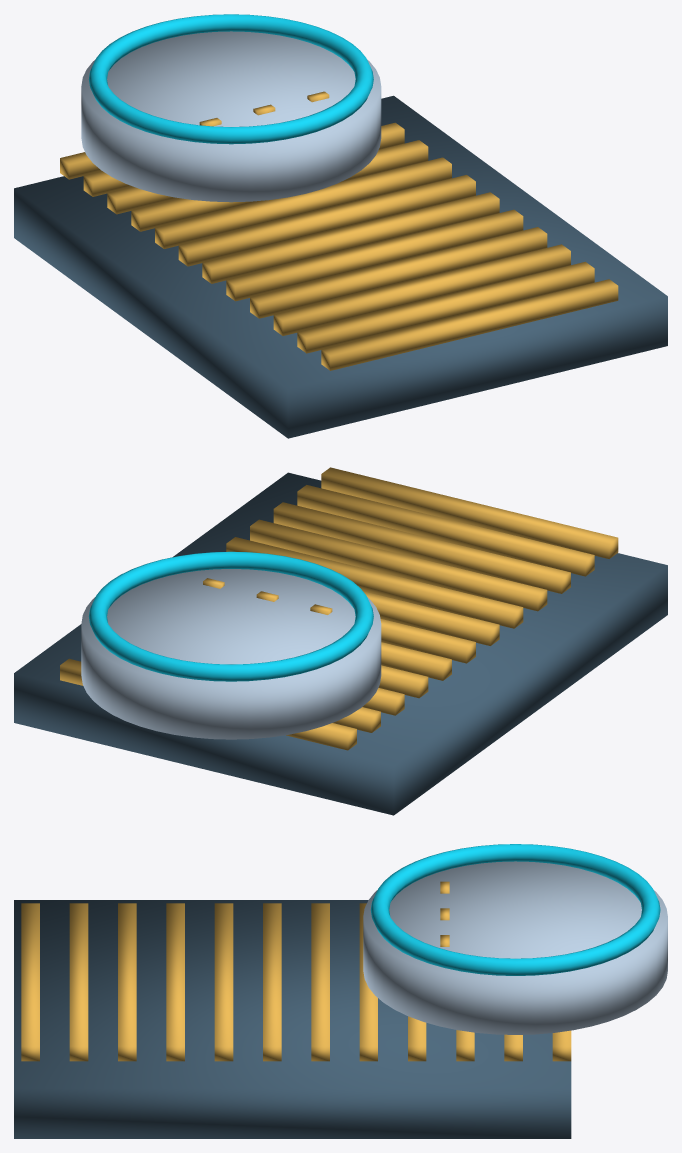
Rendered from 24_L93_CTStageServoDrive.fbx.
3 views of the same model, one above another, from view 1: azimuth 30°, elevation 25°; view 2: azimuth 150°, elevation 25°; view 3: azimuth 270°, elevation 25° (orthographic).
Visible parts, largest first — view 1: L92_CTStageServoDrive_Part_0001, L92_CTStageServoDrive_Part_0000, L92_CTStageServoDrive_Part_0002, L92_CTStageServoDrive_Part_0003; view 2: L92_CTStageServoDrive_Part_0000, L92_CTStageServoDrive_Part_0001, L92_CTStageServoDrive_Part_0002, L92_CTStageServoDrive_Part_0003; view 3: L92_CTStageServoDrive_Part_0000, L92_CTStageServoDrive_Part_0002, L92_CTStageServoDrive_Part_0001, L92_CTStageServoDrive_Part_0003.
Part boxes in pixels (box(x1,y1,x2,y2)): L92_CTStageServoDrive_Part_0001: box(60, 122, 618, 370); L92_CTStageServoDrive_Part_0000: box(14, 95, 667, 438); L92_CTStageServoDrive_Part_0002: box(81, 31, 381, 202); L92_CTStageServoDrive_Part_0003: box(88, 14, 373, 144); L92_CTStageServoDrive_Part_0000: box(14, 472, 667, 815); L92_CTStageServoDrive_Part_0001: box(60, 467, 618, 750); L92_CTStageServoDrive_Part_0002: box(81, 569, 381, 739); L92_CTStageServoDrive_Part_0003: box(88, 551, 373, 681); L92_CTStageServoDrive_Part_0000: box(14, 900, 571, 1138); L92_CTStageServoDrive_Part_0002: box(363, 861, 667, 1034); L92_CTStageServoDrive_Part_0001: box(21, 903, 571, 1061); L92_CTStageServoDrive_Part_0003: box(370, 844, 660, 975).
Size of the model in its own units: 240 by 118 by 352.
